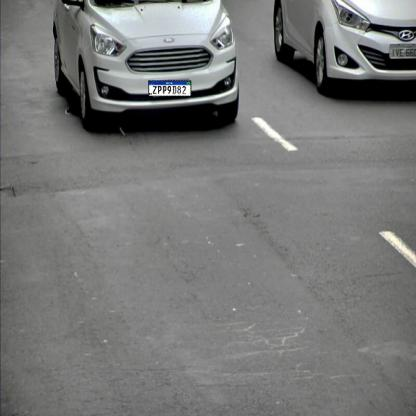PlacaM: (148, 80, 192, 96)
